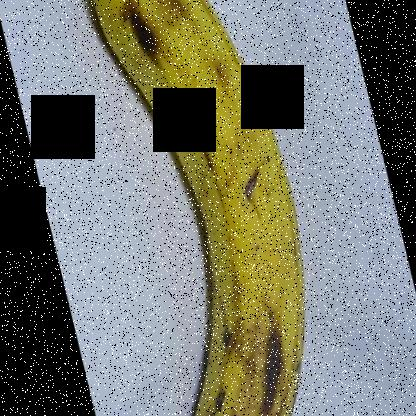ripe: (69, 0, 331, 415)
